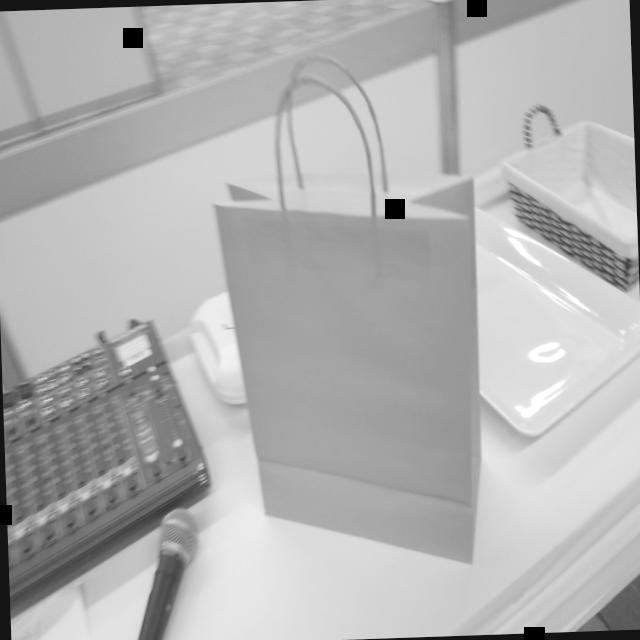basket: (498, 99, 639, 305)
help_me_carry_opl: (208, 47, 499, 588)
tray: (469, 201, 640, 440)
